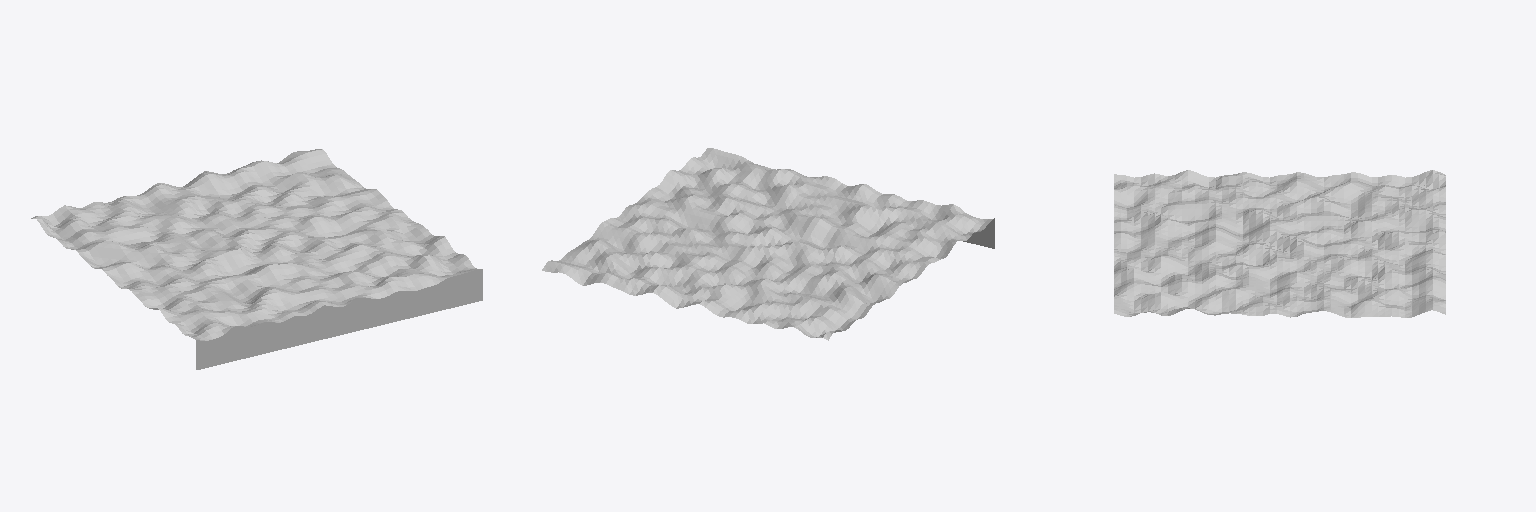
Rendered from water.obj.
3 views of the same model, side by side, from view 1: azimuth 30°, elevation 25°; view 2: azimuth 150°, elevation 25°; view 3: azimuth 270°, elevation 25° (orthographic).
Visible parts, largest first — view 1: water; view 2: water; view 3: water.
Part boxes in pixels (x1,y1,x2,y2): water: (31, 149, 482, 369); water: (542, 148, 994, 340); water: (1114, 170, 1445, 317).
Size of the model in its own units: 2 by 0.2524 by 2.01.